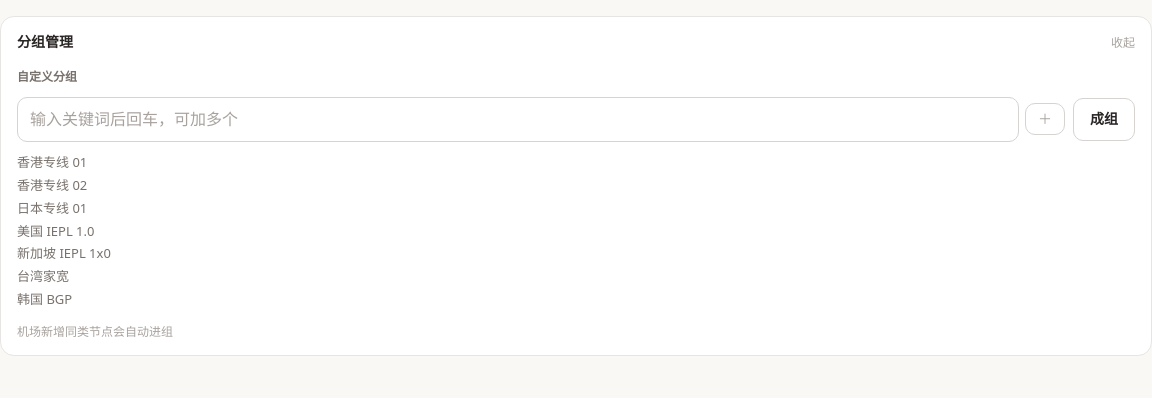
Test: GroupPanel 多关键词 chip 输入与 AND 命中 › AND 零命中（词间无交集节点）：成组禁用 + 换词提示
Type "香港" into the field named "分组关键词" at (518, 119), box top-left (17, 97), bottom-right (1019, 142)
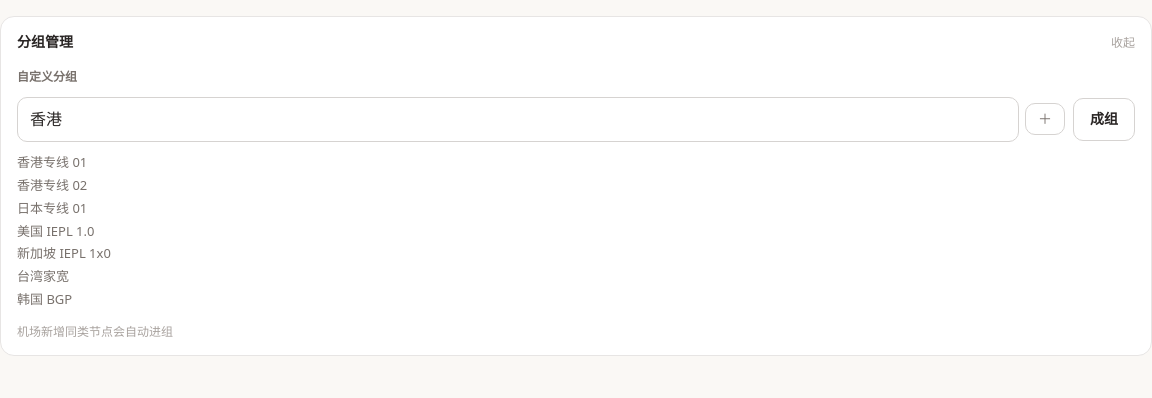
Press Enter in the field named "分组关键词", box top-left (17, 97), bottom-right (1019, 142)
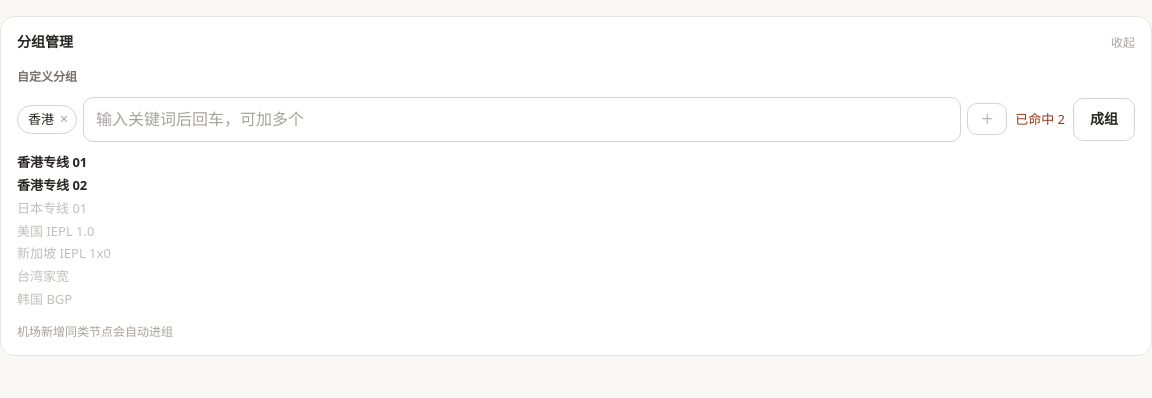
Type "IEPL" into the field named "分组关键词" at (522, 119), box top-left (83, 97), bottom-right (961, 142)
Wait 250 ms
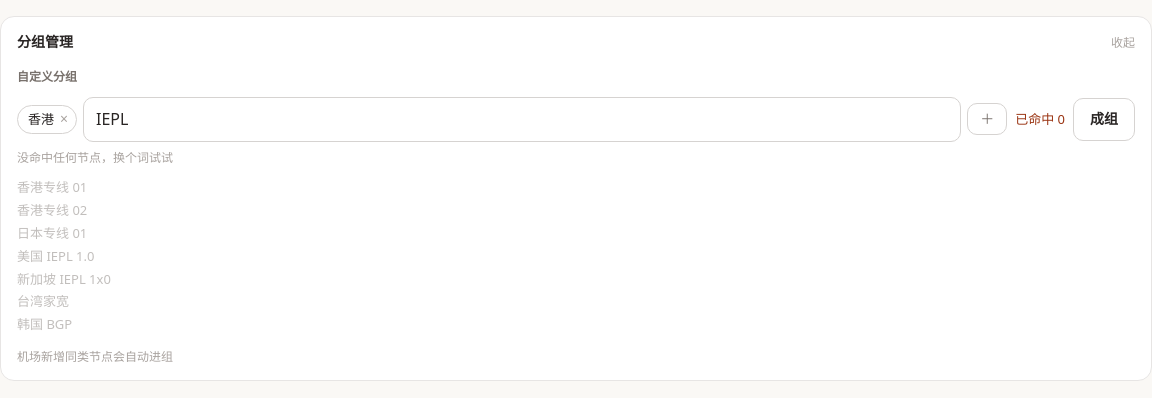
Expected: the button with class "group-confirm" is disabled, top-left (1073, 98), bottom-right (1135, 141)
Expected: the text "已命中 0" is shown, top-left (1015, 109), bottom-right (1065, 130)
Expected: the text with class "group-kw-hint" shows "没命中任何节点", top-left (17, 149), bottom-right (173, 166)
